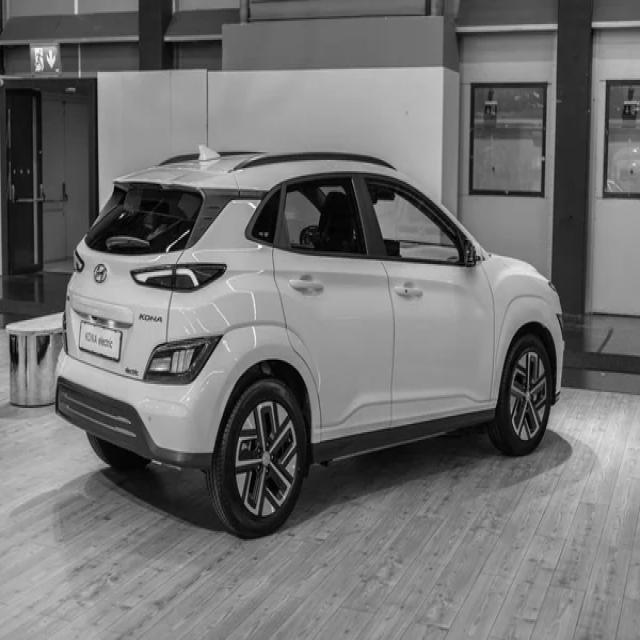Car: (54, 147, 566, 538)
